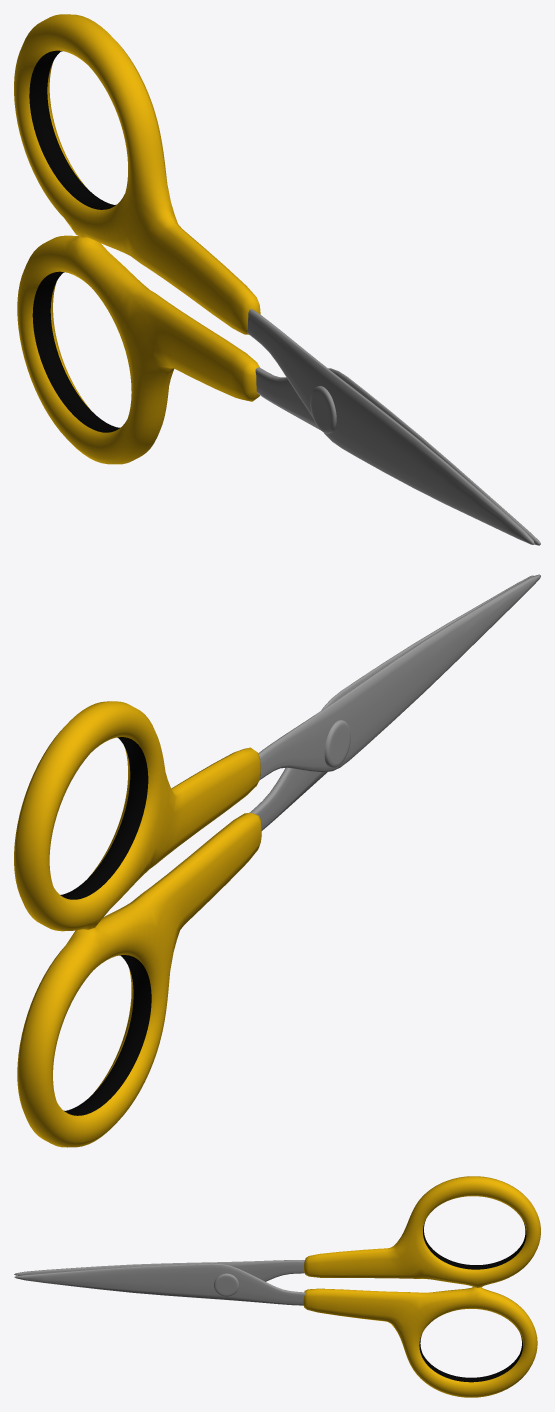
The model's file is scissors.fbx.
3 views of the same model, one above another, from view 1: azimuth 30°, elevation 25°; view 2: azimuth 150°, elevation 25°; view 3: azimuth 270°, elevation 25° (orthographic). The views are drawn at different scales.
Parts seen in each view (by area): view 1: scissors1, scissors2, pivot; view 2: scissors1, scissors2, pivot; view 3: scissors2, scissors1, pivot.
Boxes of the visible parts, x1=… form: scissors1: x1=14, y1=14, x2=534, y2=544; scissors2: x1=17, y1=235, x2=540, y2=545; pivot: x1=310, y1=386, x2=336, y2=433; scissors1: x1=14, y1=574, x2=540, y2=931; scissors2: x1=17, y1=575, x2=533, y2=1147; pivot: x1=324, y1=720, x2=350, y2=767; scissors2: x1=14, y1=1263, x2=537, y2=1397; scissors1: x1=14, y1=1176, x2=540, y2=1287; pivot: x1=214, y1=1273, x2=238, y2=1296.
Bounding box in the file's own units: 30.1 × 398 × 866.
